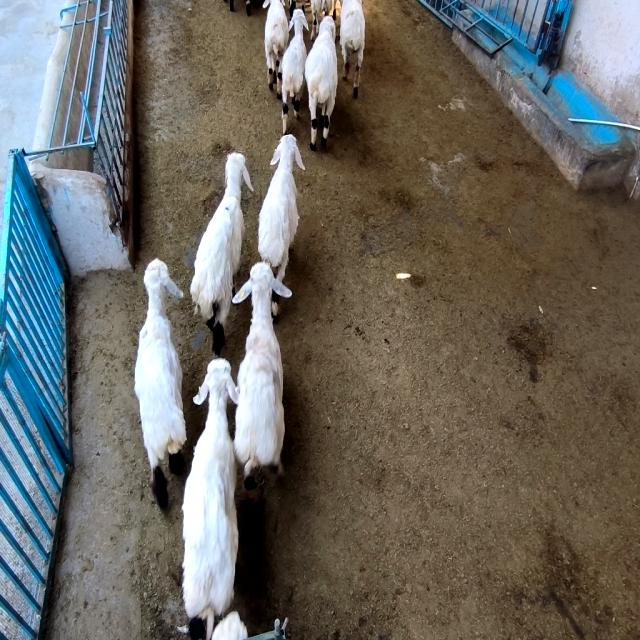sheep: (182, 358, 239, 638), (232, 262, 291, 499), (190, 152, 254, 355), (135, 258, 186, 509), (259, 135, 305, 281), (305, 15, 338, 149), (282, 8, 309, 134), (262, 0, 289, 98), (340, 0, 365, 98)
